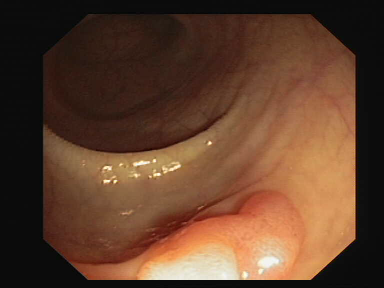polyp: (117, 196, 320, 279)
